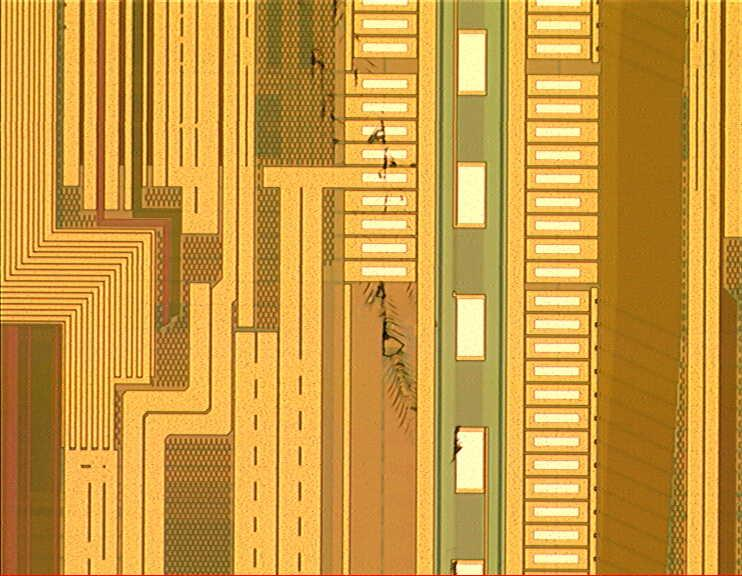SCRATCH: (308, 1, 474, 576)
